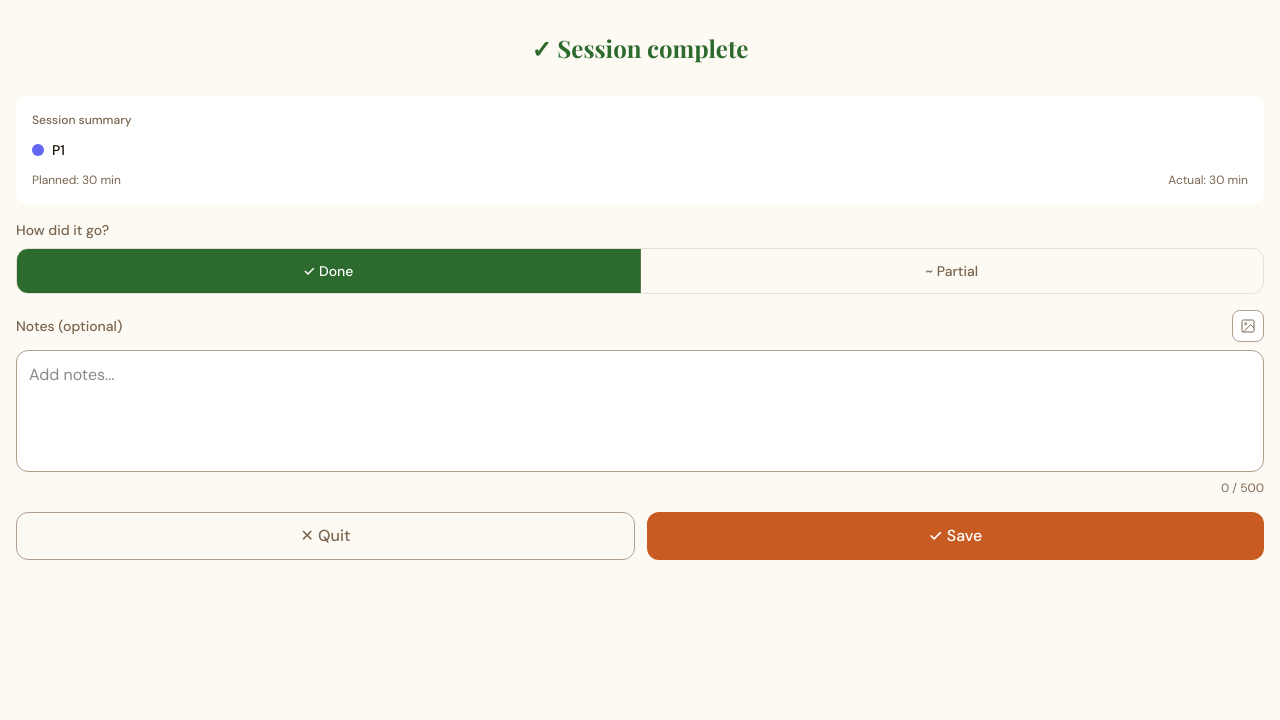
Test: SessionComplete notes field › character counter updates as user types
Type "Hello" into the text box at [640, 411], box x1=16 y1=350 x2=1264 y2=472
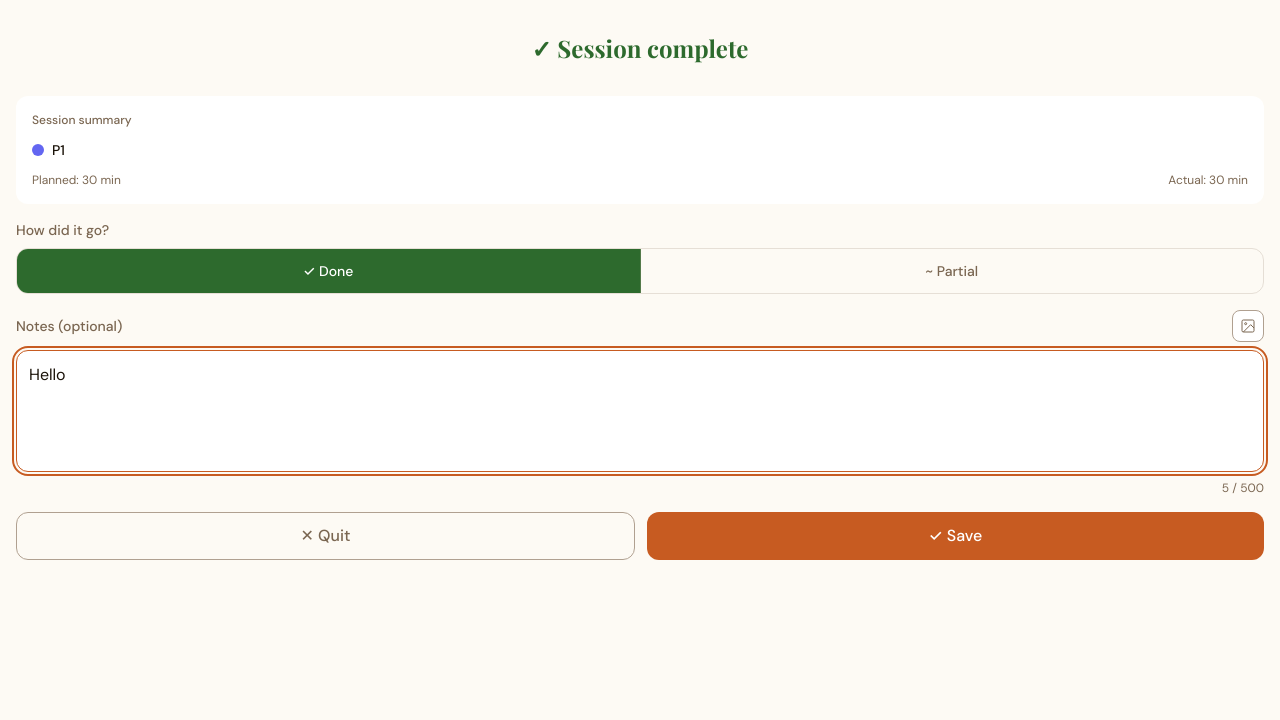
Expected: the text "5 / 500" is shown, x1=1222 y1=480 x2=1264 y2=496
